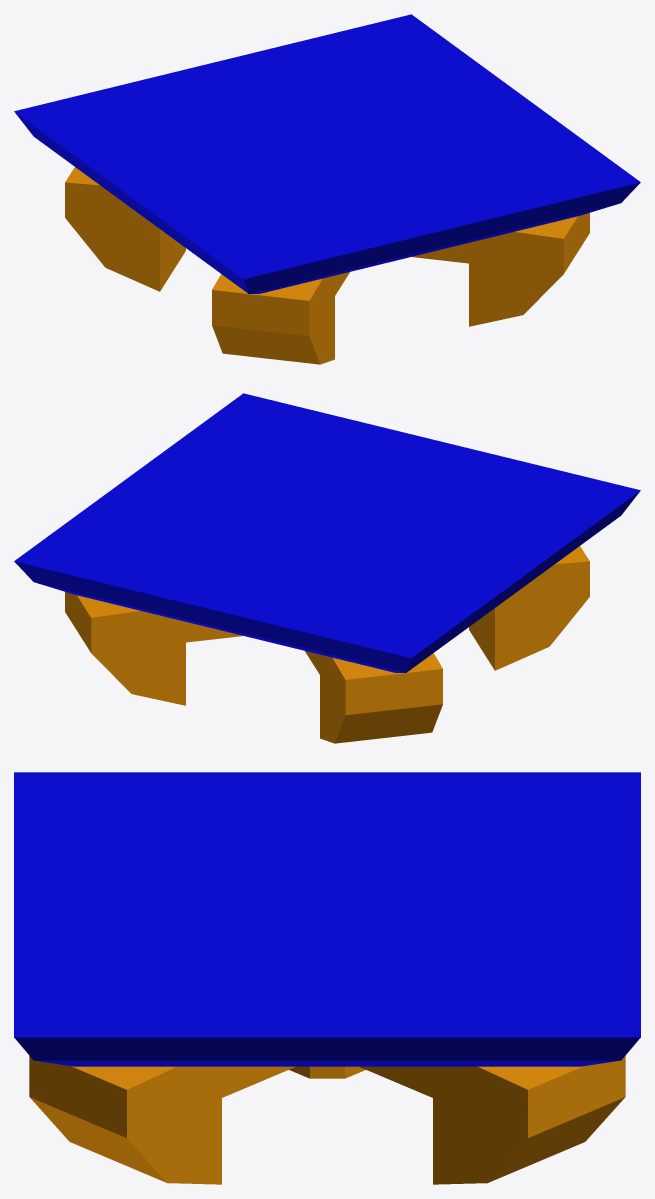
Rendered from Attachable_3.0_Wide.fbx.
The picture shows the model from 3 angles, top to bottom: view 1: azimuth 30°, elevation 25°; view 2: azimuth 150°, elevation 25°; view 3: azimuth 270°, elevation 25°; orthographic projection. The views are drawn at different scales.
Visible parts, largest first — view 1: mesh_Attachable_3.0_Wide; view 2: mesh_Attachable_3.0_Wide; view 3: mesh_Attachable_3.0_Wide.
Boxes of the visible parts, box(x1,y1,x2,y2) form: mesh_Attachable_3.0_Wide: box(14, 14, 640, 364); mesh_Attachable_3.0_Wide: box(14, 393, 640, 743); mesh_Attachable_3.0_Wide: box(14, 772, 640, 1184).
Size of the model in its own units: 397 by 135 by 397.
